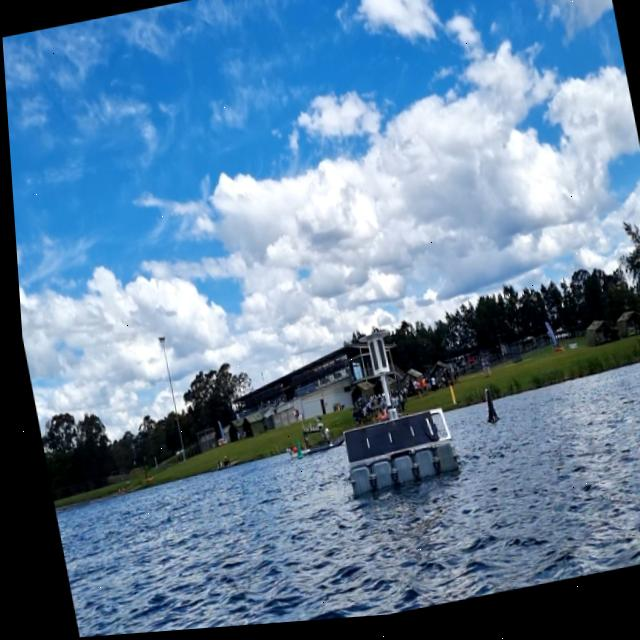led: (370, 342, 382, 376), (362, 345, 374, 378)
